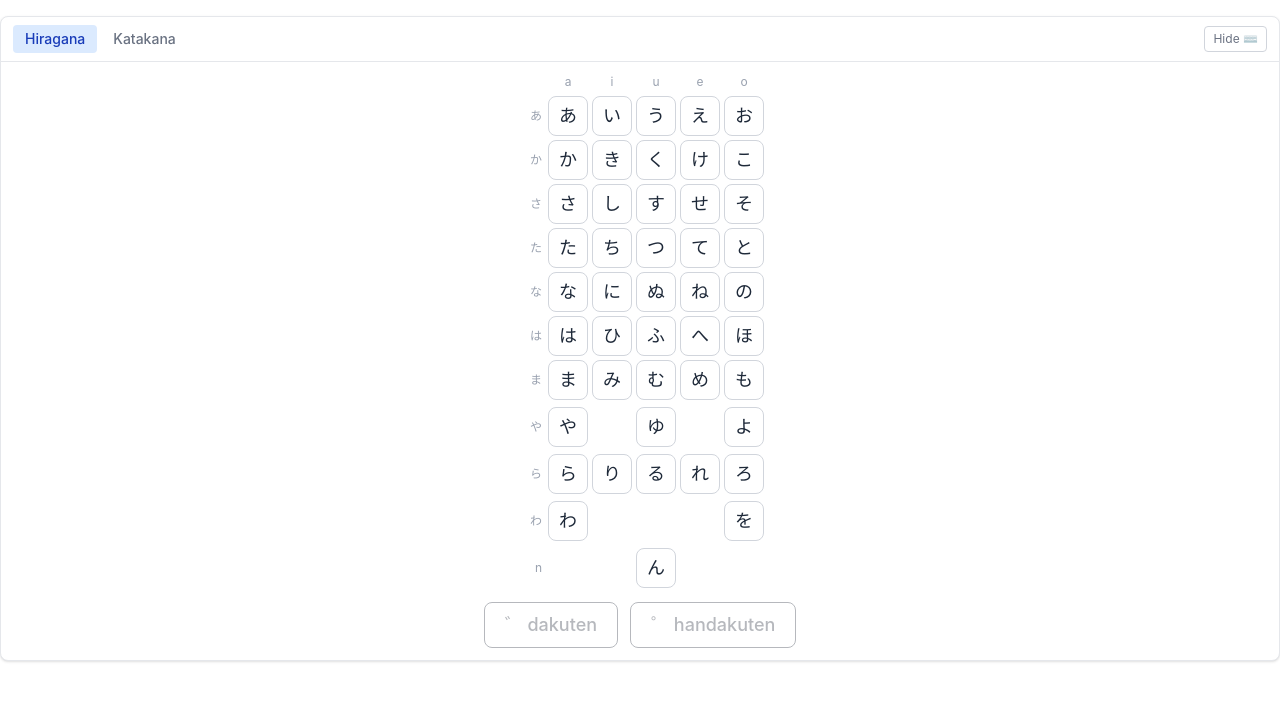
Test: OnScreenKeyboard › has toggle tabs to switch between hiragana and katakana
The image size is (1280, 720).
Expected: the button "Hiragana" is shown, [13,25,97,53]
Click the button "Katakana": point(145, 39) [101,25,188,53]
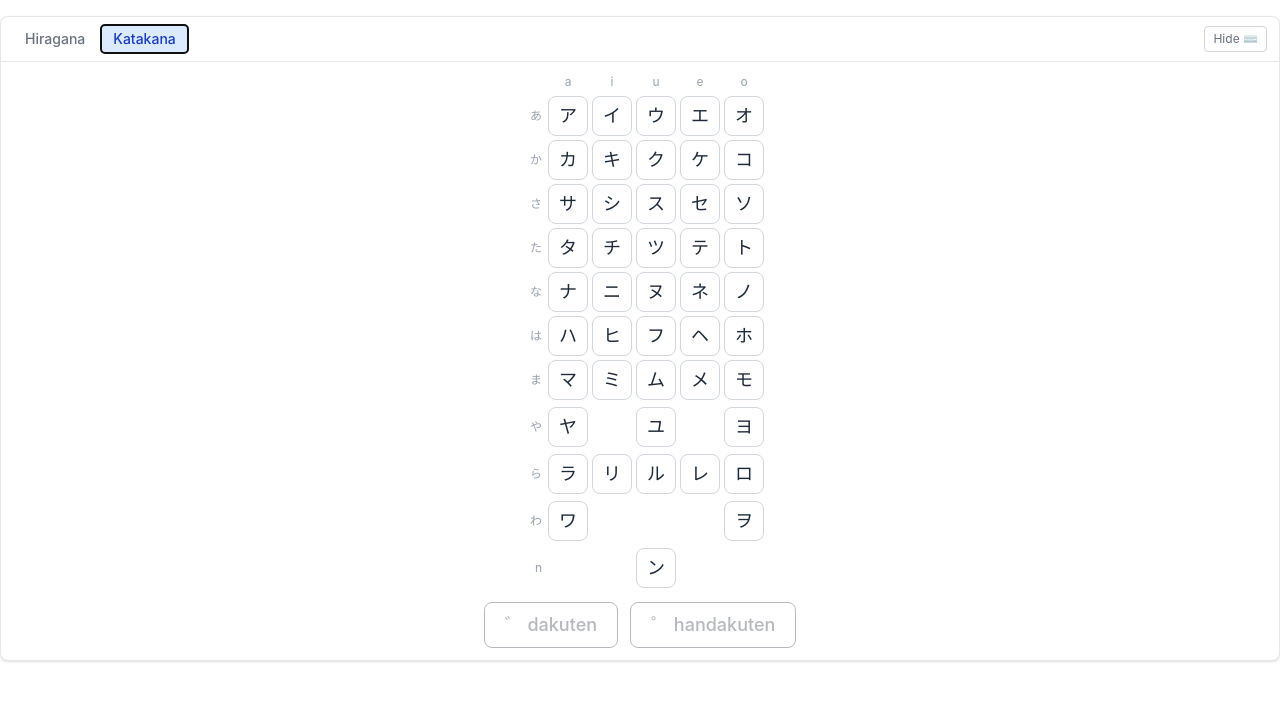
Expected: the button "ア" is shown, [548,96,588,136]
